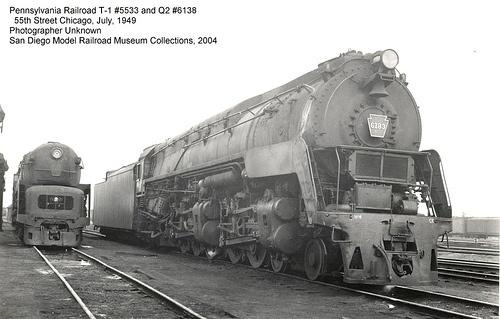train: (89, 49, 457, 291), (10, 142, 93, 252)
